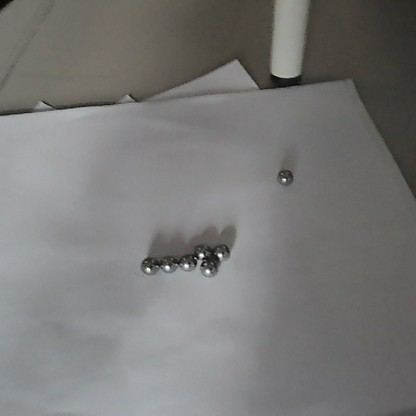ironball: (138, 251, 160, 275), (212, 239, 233, 260), (177, 250, 198, 271), (159, 252, 179, 273), (198, 259, 218, 279), (191, 242, 213, 260), (275, 164, 292, 186)
